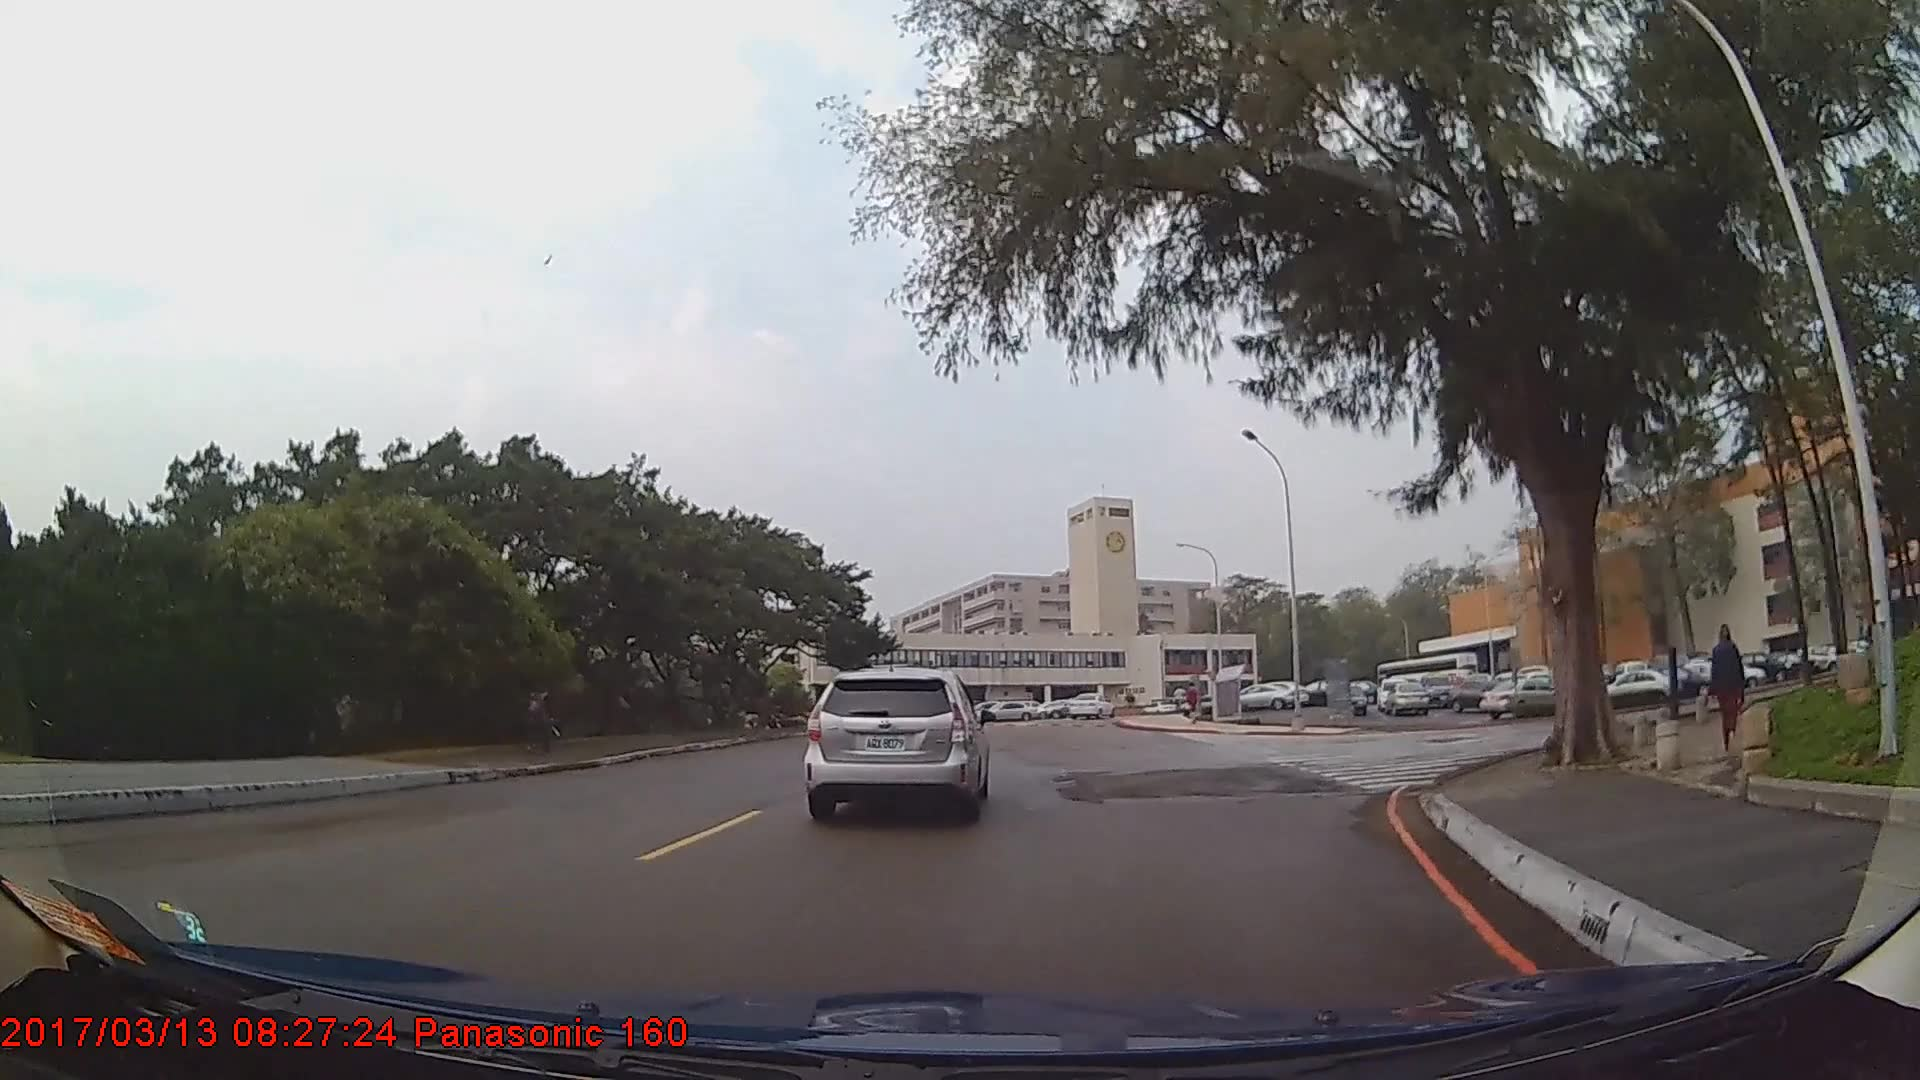pedestrian: (1708, 620, 1753, 754), (520, 672, 557, 750)
vehicle: (806, 665, 988, 821), (1475, 672, 1565, 719), (1591, 667, 1678, 702), (1444, 677, 1515, 711), (1228, 682, 1297, 707), (1385, 678, 1429, 713), (975, 697, 1041, 721), (1065, 689, 1114, 720), (1416, 671, 1455, 706), (1333, 686, 1366, 715)
